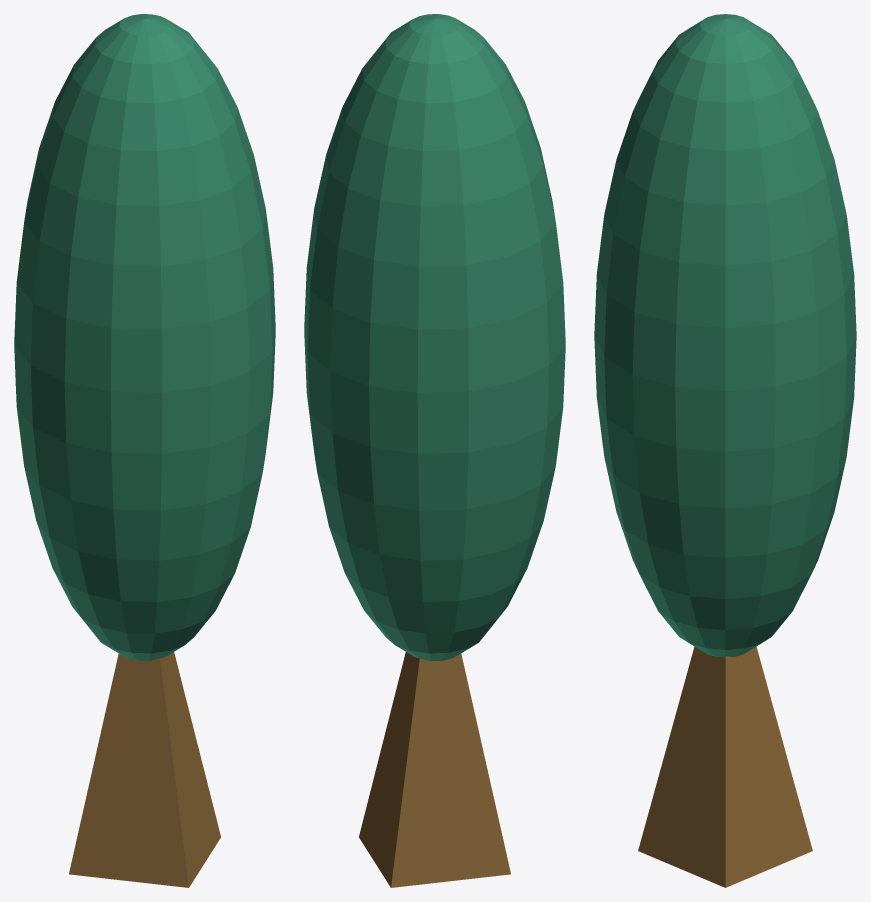
The model's file is TallBushTree.fbx.
3 renders of one model, left to right at view 1: azimuth 30°, elevation 25°; view 2: azimuth 150°, elevation 25°; view 3: azimuth 270°, elevation 25°, orthographic.
Parts seen in each view (by area): view 1: Round Leaves, Basic Trunk; view 2: Round Leaves, Basic Trunk; view 3: Round Leaves, Basic Trunk.
Part boxes in pixels (left/top/right/bottom): Round Leaves: left=14, top=14, right=275, bottom=660; Basic Trunk: left=69, top=652, right=220, bottom=887; Round Leaves: left=304, top=14, right=565, bottom=660; Basic Trunk: left=359, top=652, right=510, bottom=887; Round Leaves: left=594, top=14, right=856, bottom=656; Basic Trunk: left=638, top=646, right=812, bottom=887.
Bounding box in the file's own units: 600 × 2100 × 600.
